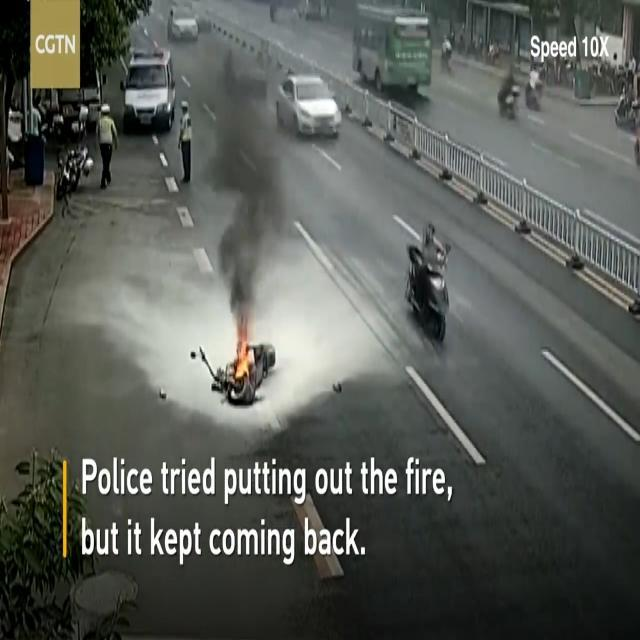Fire: (234, 336, 252, 379)
Smoke: (200, 57, 286, 334)
